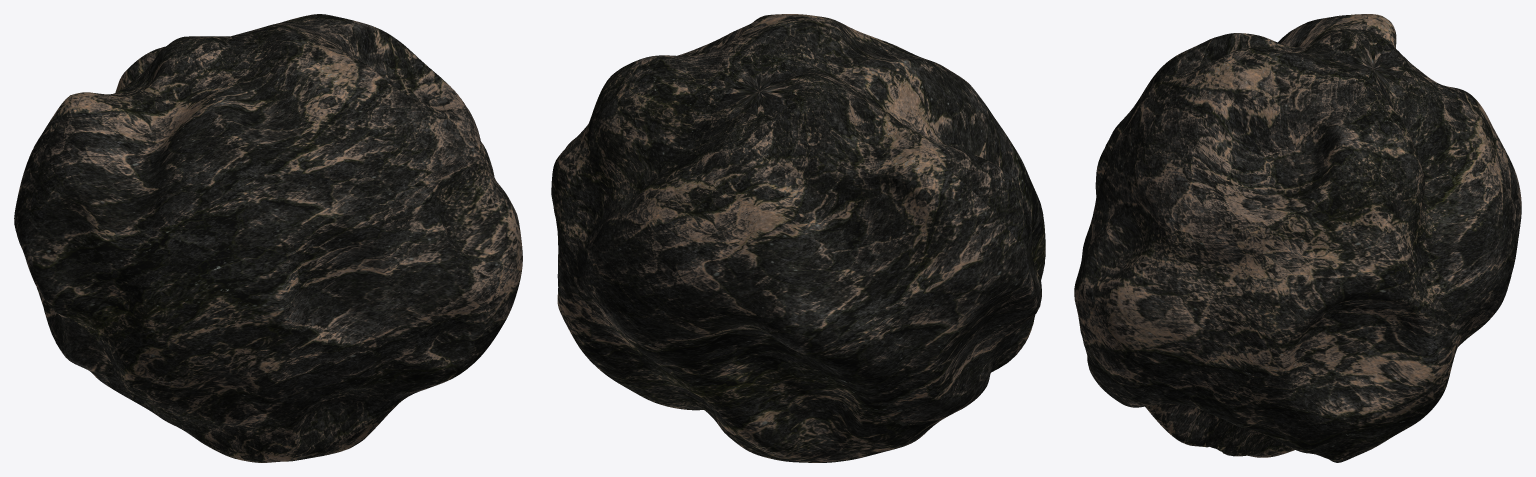
Rendered from meteor.glb.
3 views of the same model, side by side, from view 1: azimuth 30°, elevation 25°; view 2: azimuth 150°, elevation 25°; view 3: azimuth 270°, elevation 25° (orthographic). The views are drawn at different scales.
Visible parts, largest first — view 1: Sphere; view 2: Sphere; view 3: Sphere.
Boxes of the visible parts, box(x1,y1,x2,y2) form: Sphere: box(14, 14, 522, 462); Sphere: box(551, 14, 1045, 462); Sphere: box(1074, 14, 1521, 462).
Bounding box in the file's own units: 10.2 × 8.69 × 8.62.
Materials: 1 (1 with a texture image).
